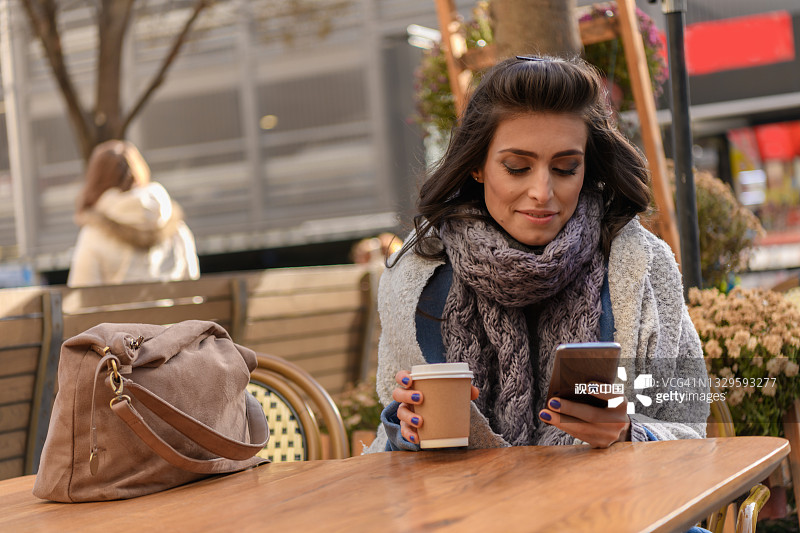no-phone: (379, 360, 488, 454)
reading: (532, 336, 635, 466)
